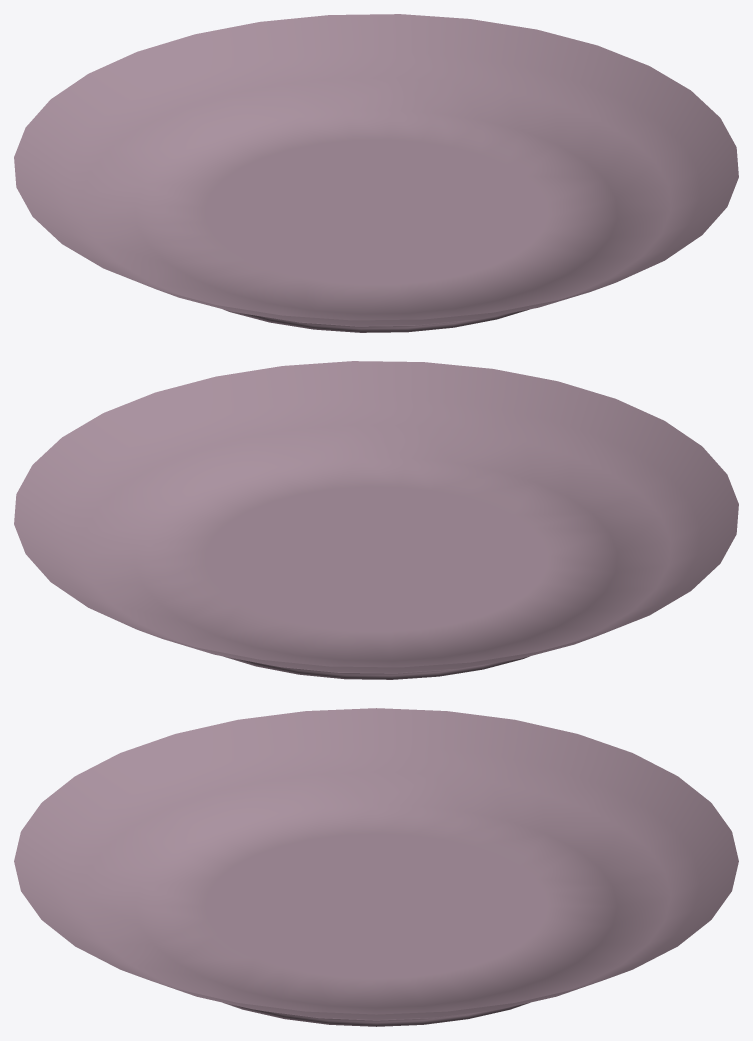
File: plate.dae
The picture shows the model from 3 angles, top to bottom: view 1: azimuth 30°, elevation 25°; view 2: azimuth 150°, elevation 25°; view 3: azimuth 270°, elevation 25°; orthographic projection.
Visible parts, largest first — view 1: Plate; view 2: Plate; view 3: Plate.
Boxes of the visible parts, x1,y1,x2,y2 form: Plate: (14, 14, 738, 332); Plate: (14, 361, 738, 679); Plate: (14, 708, 738, 1026).
Size of the model in its own units: 0.4748 by 0.4748 by 0.046.
